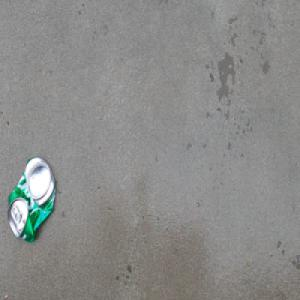SodaCan: (6, 154, 57, 245)
